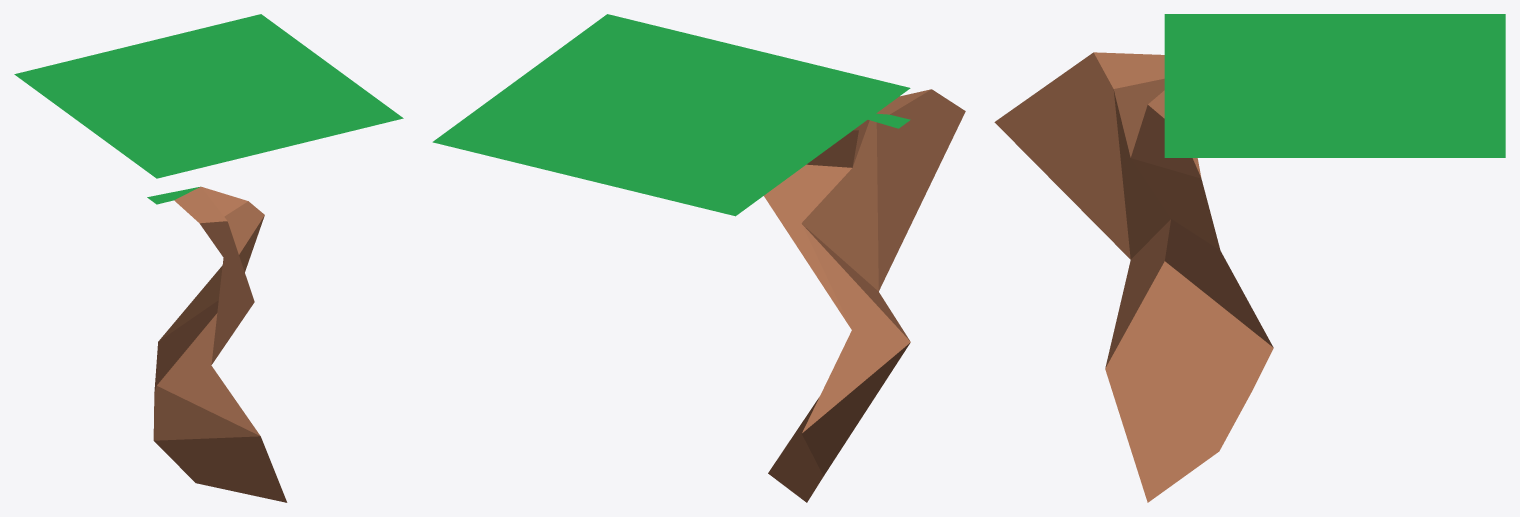
Rendered from Corner Top Inverted E.fbx.
3 views of the same model, side by side, from view 1: azimuth 30°, elevation 25°; view 2: azimuth 150°, elevation 25°; view 3: azimuth 270°, elevation 25° (orthographic). The views are drawn at different scales.
Parts seen in each view (by area): view 1: Corner Top Inverted E; view 2: Corner Top Inverted E; view 3: Corner Top Inverted E.
Boxes of the visible parts, x1,y1,x2,y2 form: Corner Top Inverted E: (14, 14, 403, 502); Corner Top Inverted E: (432, 14, 965, 502); Corner Top Inverted E: (994, 14, 1505, 502).
Bounding box in the file's own units: 50 × 67.5 × 75.
